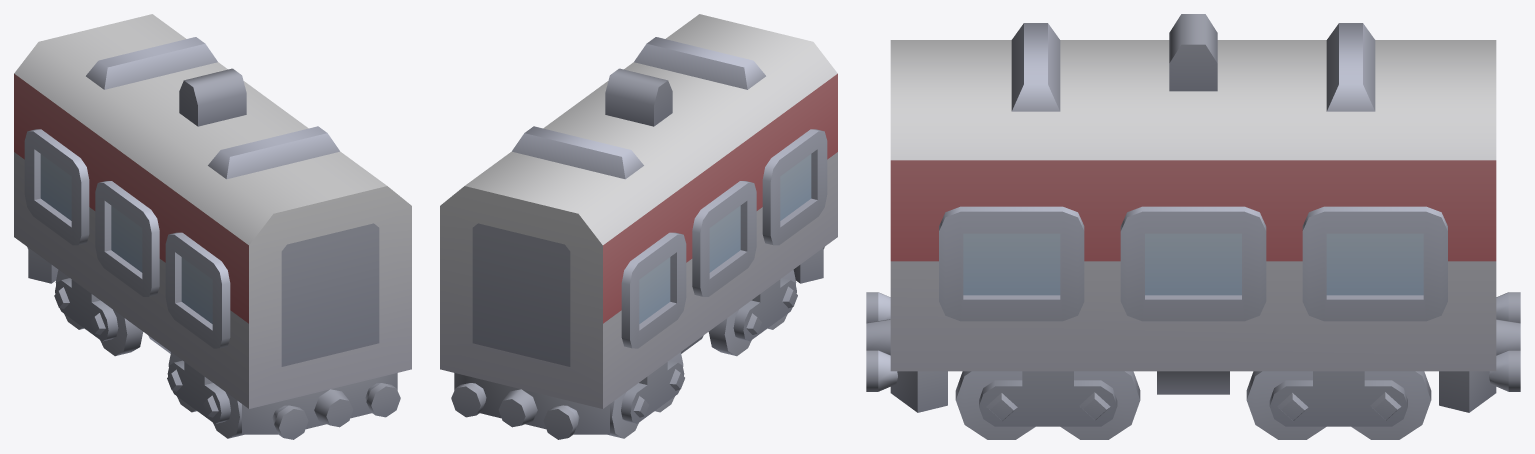
Rendered from train-carriage.glb.
The picture shows the model from 3 angles, left to right: view 1: azimuth 30°, elevation 25°; view 2: azimuth 150°, elevation 25°; view 3: azimuth 270°, elevation 25°; orthographic projection. The views are drawn at different scales.
Visible parts, largest first — view 1: train-carriage; view 2: train-carriage; view 3: train-carriage.
Boxes of the visible parts, x1=… form: train-carriage: x1=14, y1=14, x2=411, y2=439; train-carriage: x1=440, y1=14, x2=837, y2=439; train-carriage: x1=866, y1=14, x2=1520, y2=439.
Size of the model in its own units: 1.1 by 1.68 by 2.7.
